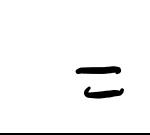eqv: (76, 66, 125, 99)
